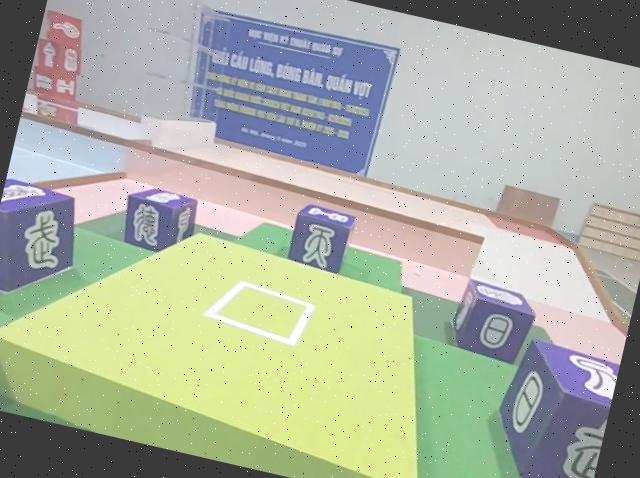R2 Fake Blue: (479, 334, 620, 478), (0, 176, 91, 308), (444, 279, 540, 370), (114, 184, 201, 263), (286, 201, 360, 278)
